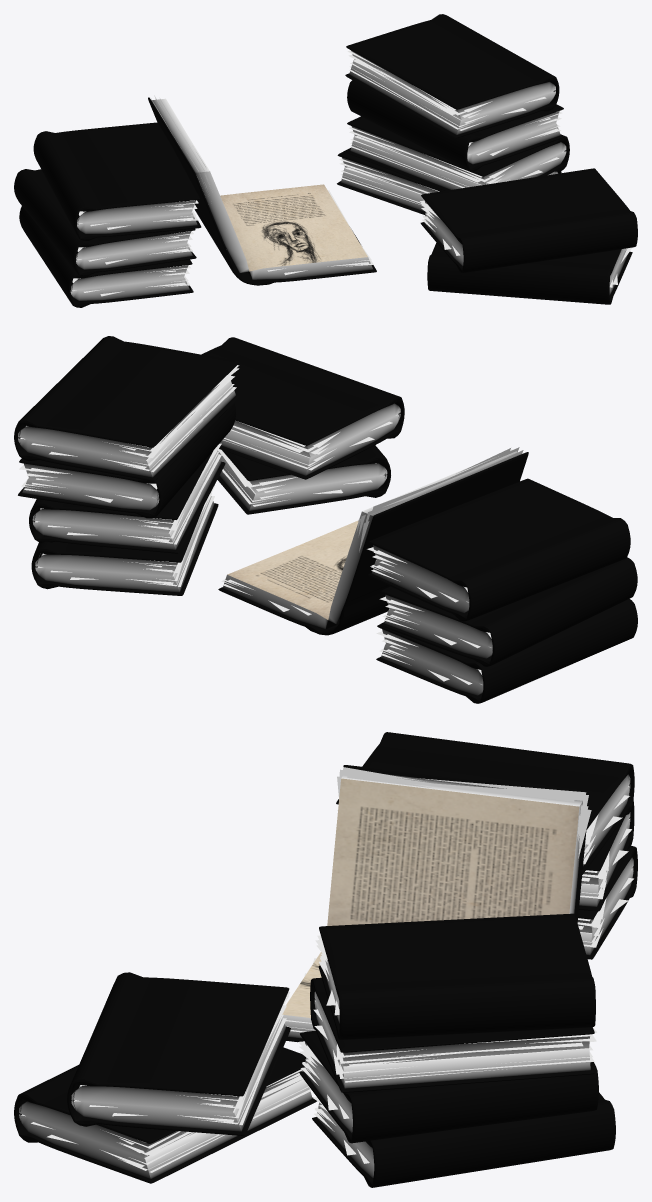
The model's file is KitapYigini.fbx.
3 views of the same model, one above another, from view 1: azimuth 30°, elevation 25°; view 2: azimuth 150°, elevation 25°; view 3: azimuth 270°, elevation 25° (orthographic). The views are drawn at different scales.
Parts seen in each view (by area): view 1: Book.008, Book.010, Book.007, Book.003, Book.009, Book.006, Book.005, Book.002, Book.001, Book.004; view 2: Book.003, Book.010, Book.007, Book.008, Book.002, Book.001, Book.005, Book.004, Book.006, Book.009; view 3: Book.007, Book.010, Book.008, Book.006, Book.005, Book.004, Book.009, Book.003, Book.001, Book.002.
Boxes of the visible parts, x1=… form: Book.008: x1=420, y1=168, x2=637, y2=273; Book.010: x1=345, y1=14, x2=559, y2=138; Book.007: x1=148, y1=95, x2=376, y2=285; Book.003: x1=33, y1=122, x2=201, y2=240; Book.009: x1=427, y1=242, x2=632, y2=304; Book.006: x1=347, y1=80, x2=564, y2=171; Book.005: x1=346, y1=116, x2=569, y2=190; Book.002: x1=14, y1=169, x2=196, y2=276; Book.001: x1=19, y1=206, x2=193, y2=307; Book.004: x1=337, y1=148, x2=561, y2=214; Book.003: x1=367, y1=478, x2=630, y2=621; Book.010: x1=14, y1=336, x2=240, y2=481; Book.007: x1=218, y1=447, x2=528, y2=635; Book.008: x1=201, y1=337, x2=404, y2=479; Book.002: x1=379, y1=557, x2=637, y2=666; Book.001: x1=376, y1=598, x2=637, y2=703; Book.005: x1=29, y1=443, x2=225, y2=553; Book.004: x1=31, y1=485, x2=218, y2=595; Book.006: x1=18, y1=403, x2=235, y2=518; Book.009: x1=217, y1=445, x2=390, y2=514; Book.007: x1=282, y1=765, x2=591, y2=1042; Book.010: x1=315, y1=913, x2=595, y2=1039; Book.008: x1=67, y1=972, x2=290, y2=1135; Book.006: x1=310, y1=977, x2=596, y2=1092; Book.005: x1=298, y1=1030, x2=598, y2=1143; Book.004: x1=312, y1=1092, x2=615, y2=1187; Book.009: x1=14, y1=1047, x2=316, y2=1183; Book.003: x1=336, y1=732, x2=634, y2=874; Book.001: x1=577, y1=846, x2=637, y2=959; Book.002: x1=579, y1=800, x2=634, y2=911.
Bounding box in the file's own units: 92.47 × 24.12 × 73.36.
